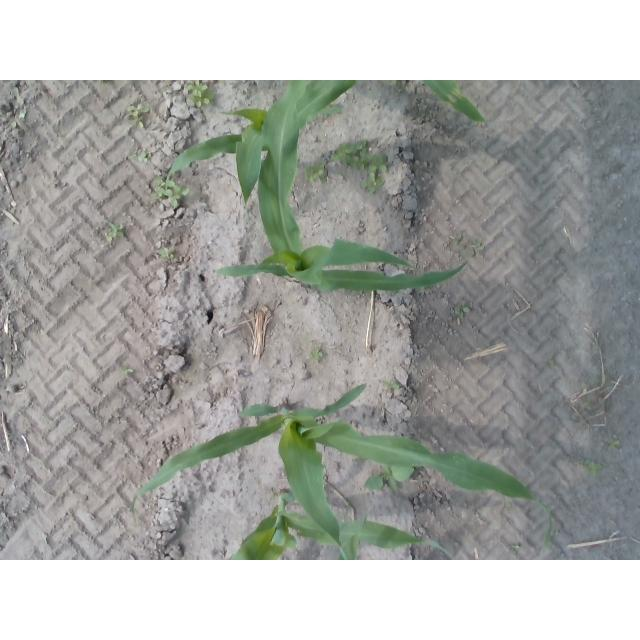Maize: (134, 383, 554, 549), (213, 81, 468, 292), (164, 81, 488, 196), (228, 493, 452, 560)
Weeds: (326, 140, 387, 193), (365, 466, 414, 488), (186, 81, 210, 108), (126, 104, 148, 126), (304, 160, 324, 183), (165, 180, 187, 198), (581, 460, 602, 477), (468, 240, 485, 257), (455, 300, 469, 320), (109, 223, 126, 237), (157, 246, 174, 258), (454, 235, 467, 250), (608, 437, 621, 451), (309, 348, 324, 360), (138, 151, 148, 162), (122, 368, 135, 374)
